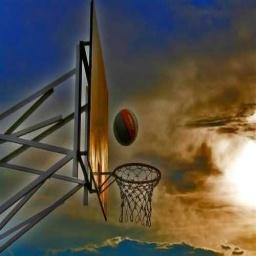ball: (112, 104, 139, 150)
rim: (109, 159, 161, 225)
